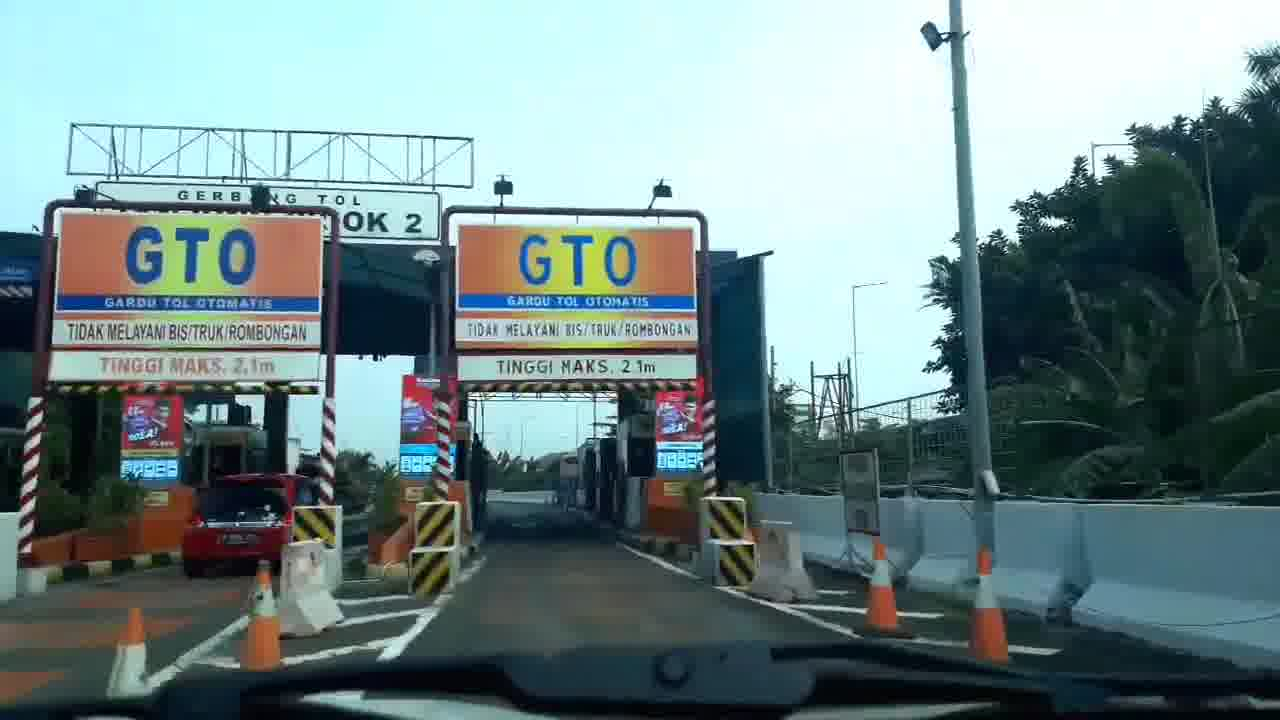plate_positive: (221, 534, 257, 547)
